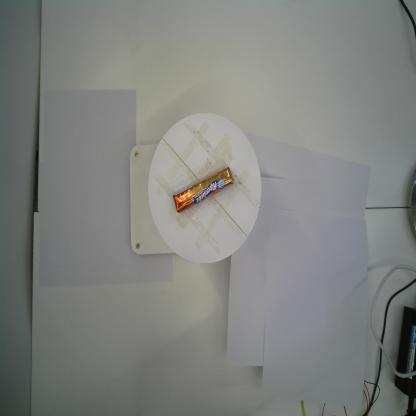Candy: (172, 166, 234, 213)
